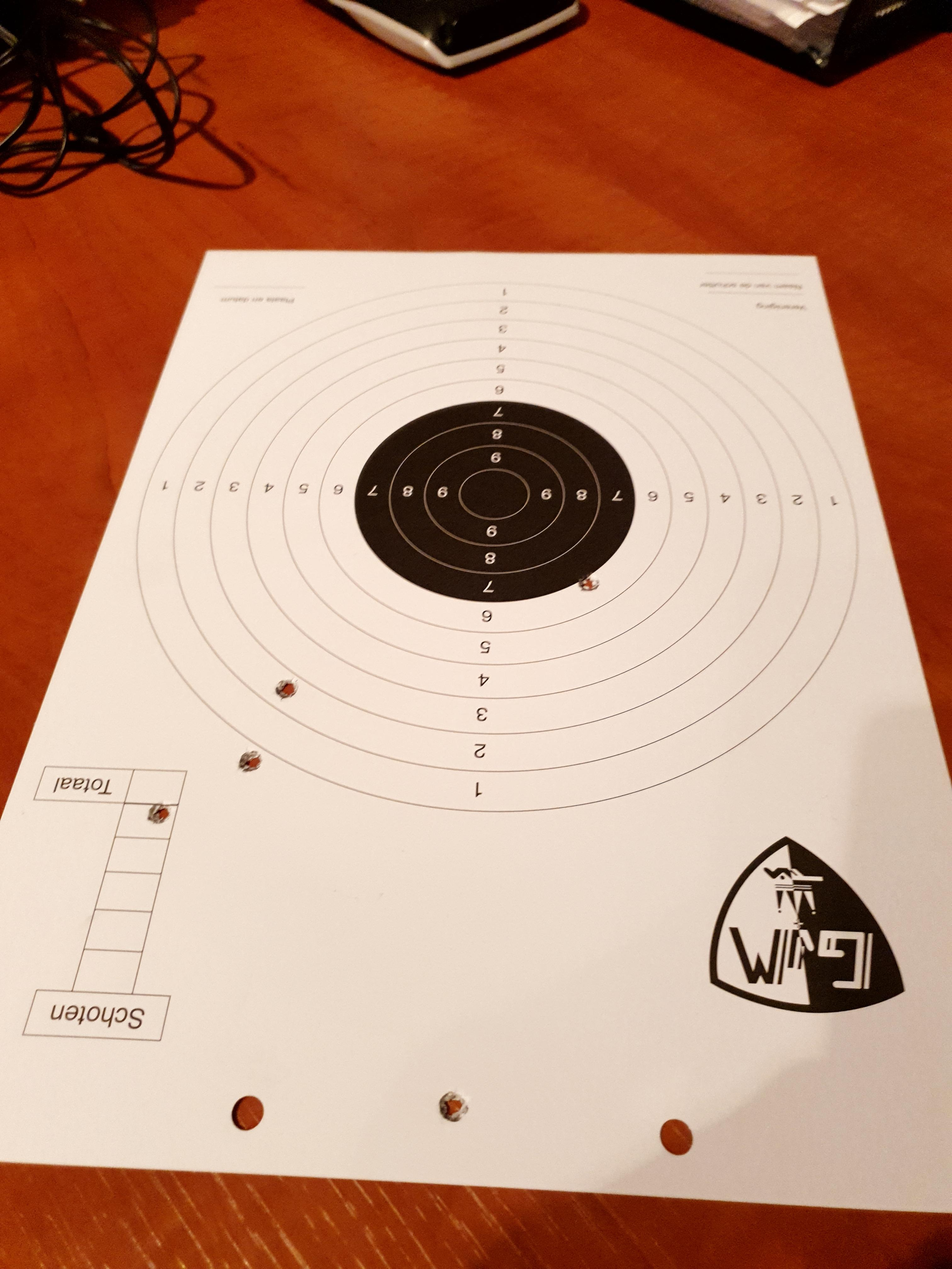hole: (436, 1090, 473, 1125), (235, 748, 266, 775), (273, 674, 298, 702), (573, 571, 602, 594), (147, 801, 172, 827)
